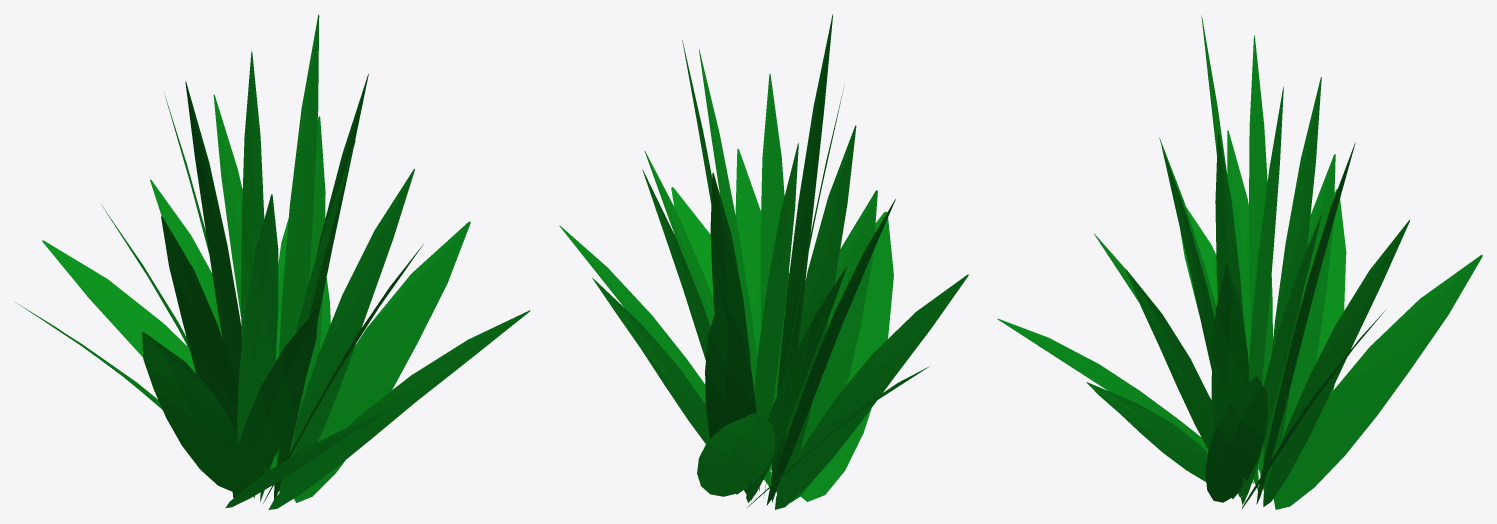
Rendered from Grass.fbx.
The picture shows the model from 3 angles, left to right: view 1: azimuth 30°, elevation 25°; view 2: azimuth 150°, elevation 25°; view 3: azimuth 270°, elevation 25°; orthographic projection. The views are drawn at different scales.
Parts seen in each view (by area): view 1: Circle; view 2: Circle; view 3: Circle.
Boxes of the visible parts, x1=… form: Circle: x1=15, y1=14, x2=530, y2=509; Circle: x1=559, y1=14, x2=968, y2=509; Circle: x1=997, y1=15, x2=1482, y2=509.
Size of the model in its own units: 371 by 408 by 387.
